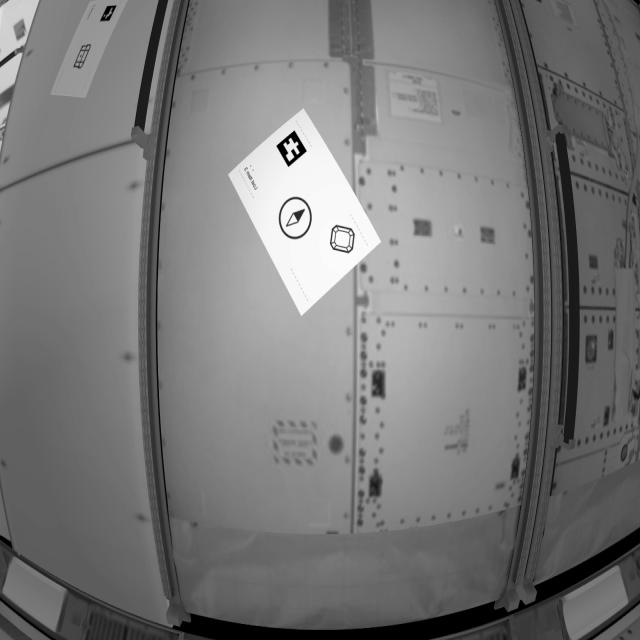compass: (277, 194, 314, 243)
emerald: (328, 222, 358, 257)
treasure_box: (72, 38, 93, 75)
